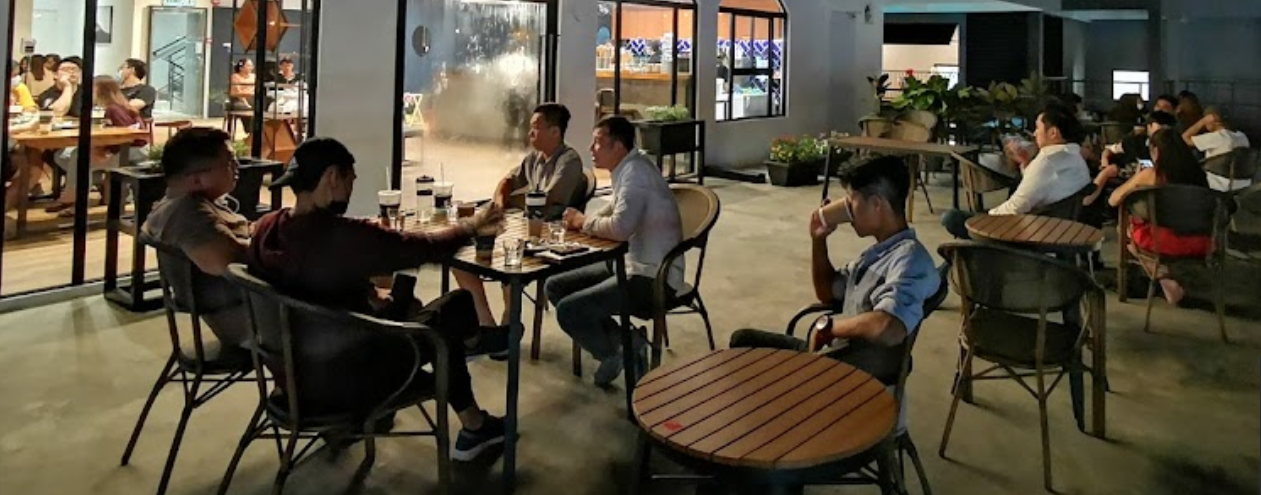sit: (252, 139, 411, 462), (794, 135, 924, 445), (111, 109, 230, 394), (577, 107, 685, 377), (992, 92, 1089, 292)
